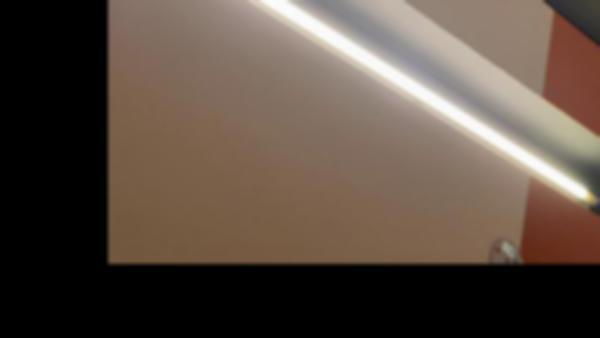light_on: (163, 0, 600, 226)
